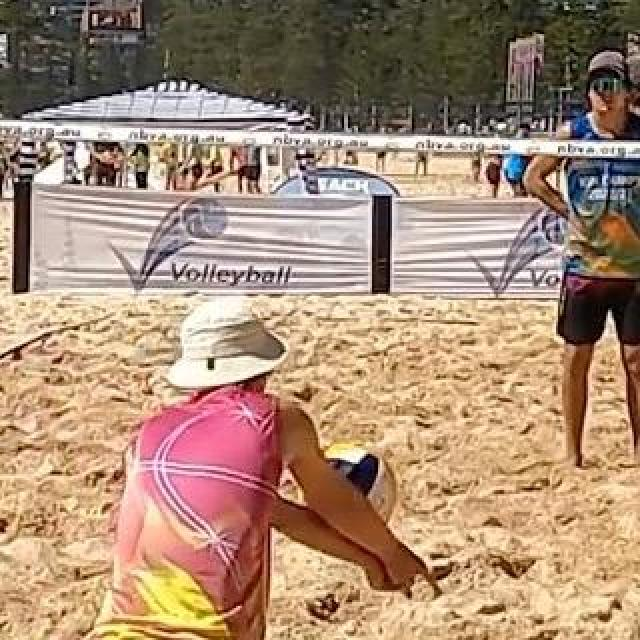volleyball: (303, 442, 395, 542)
